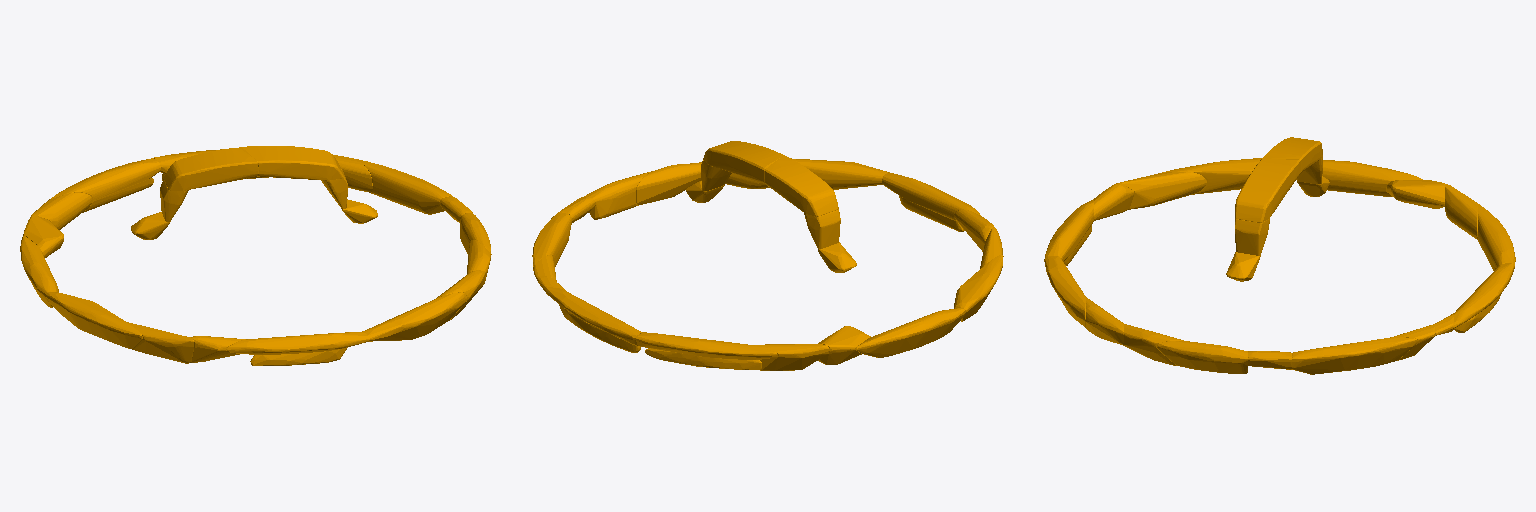
The robot description file, URDF, robot "028_skillet_lid":
<?xml version="1.0" encoding="UTF-8"?>
<robot name="028_skillet_lid">
	<link name="base">
		<collision>
			<geometry>
				<mesh filename="..\vhacd\028_skillet_lid_vhacd.obj" scale="1.0 1.0 1.0"/>
			</geometry>
			<origin xyz="0 0 0"/>
			<contact_coefficients mu="0.24" />
		</collision>
		<visual>
			<geometry>
				<mesh filename="..\vhacd\028_skillet_lid_vhacd.obj" scale="1.0 1.0 1.0"/>
			</geometry>
			<origin xyz="0 0 0"/>
		</visual>
		<inertial>
			<mass value="0"/>
			<inertia ixx="0.0" ixy="0.0" ixz="-0.0" iyy="0.0" iyz="0.0" izz="0.0" />
			<origin xyz="0.004614897891211319 0.028319652028696185 0.020098897113404946"/>
		</inertial>
	</link>
</robot>

--- Facts derived from the render (not from the file) ---
3 views of the same robot in one strip: view 1: azimuth 30°, elevation 25°; view 2: azimuth 150°, elevation 25°; view 3: azimuth 270°, elevation 25° (orthographic).
Robot: 028_skillet_lid — 1 links, 0 joints (none); root link base; default pose: all joints at 0.
Links seen in each view (by area): view 1: base; view 2: base; view 3: base.
Link boxes in pixels (<box>): base: <box>20,146,491,365</box>; base: <box>532,141,1003,370</box>; base: <box>1044,137,1515,374</box>.
Size in the robot's own frame: 0.2684 by 0.2694 by 0.0763 metres.
Meshes: 1 distinct files referenced, 1 mesh visuals loaded (1 OBJ).